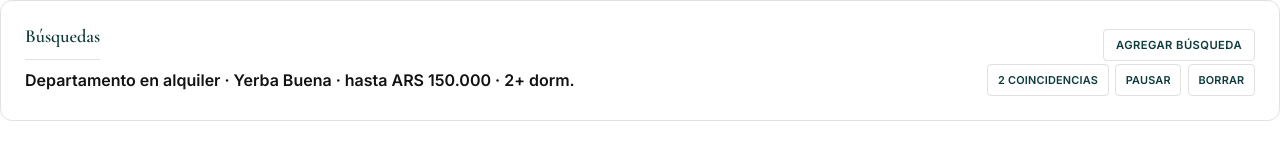
BloqueBusquedas › pausar reemplaza la búsqueda por la que devuelve la API
The width and height of the screenshot is (1280, 160).
Click the button "Pausar": (1148,80) [1115, 64, 1181, 96]
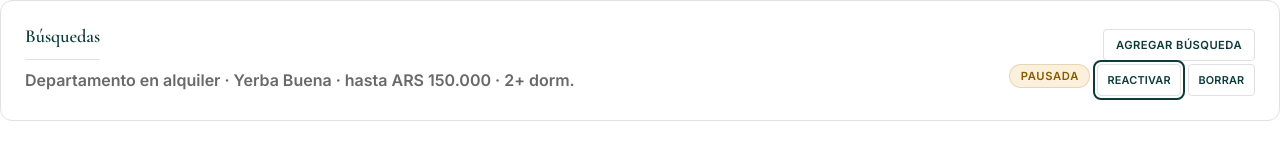
Expected: the button "Reactivar" is shown, [1097, 64, 1181, 96]
Expected: the text "Pausada" is shown, [1009, 64, 1090, 88]
